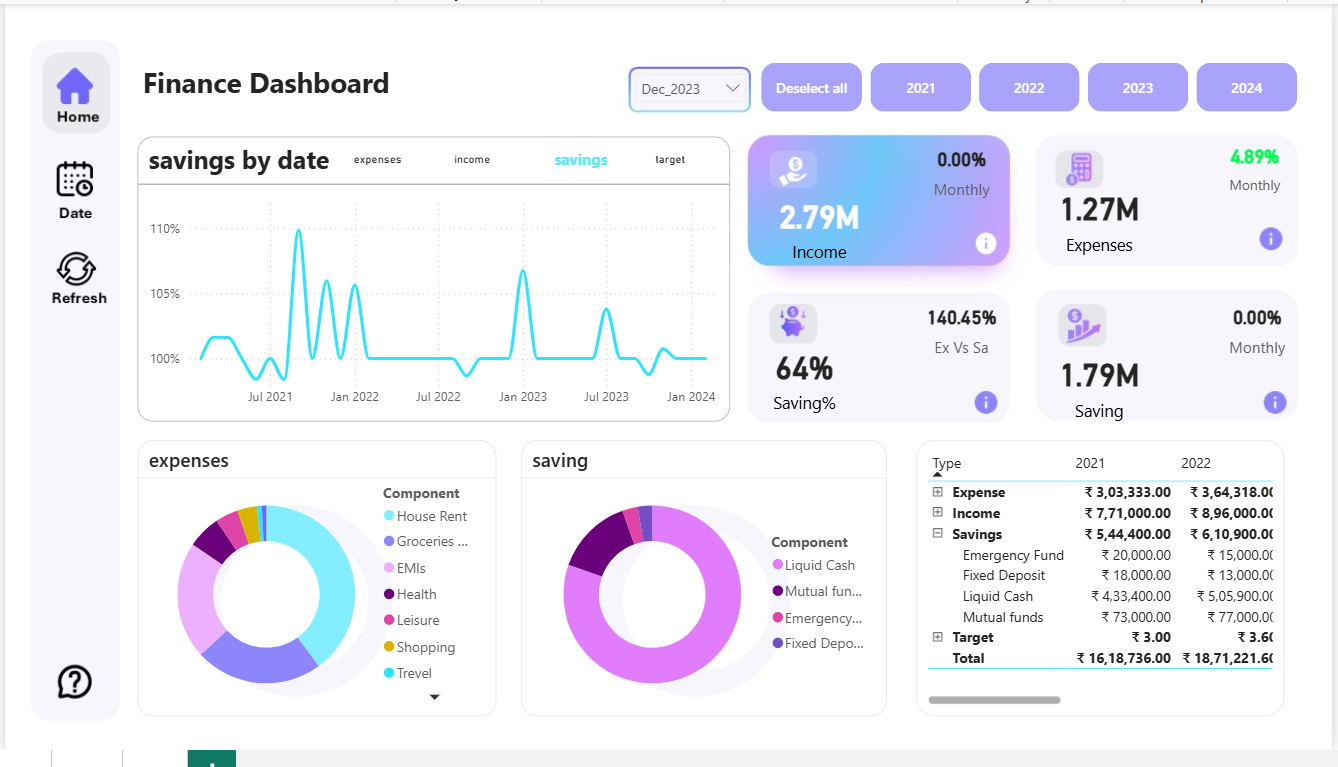

What the dashboard file says about the page in this screenshot:
{"tool":"powerbi","page":{"name":"Page 1","canvas":[1280,720],"ordinal":0},"visuals":[{"type":"card","fields":{"Values":["dataset.income"]},"box":[720.1,167.2,131.8,92.8],"z":0},{"type":"card","fields":{"Values":["dataset.saving"]},"box":[997.1,318.5,119.6,97.6],"z":1000},{"type":"card","fields":{"Values":["dataset.expenses"]},"box":[997.1,155,119.6,105],"z":2000},{"type":"card","fields":{"Values":["dataset.saving%"]},"box":[711.5,312.4,119.6,95.2],"z":3000},{"type":"advancedSlicerVisual","fields":{"Values":["dataset.year"]},"box":[725.1,51.9,527.2,57.9],"z":4000},{"type":"donutChart","title":"saving ","fields":{"Category":["dataset.Component"],"Y":["dataset.saving"]},"box":[498.8,421.2,352.5,266.2],"z":5000},{"type":"donutChart","title":"expenses ","fields":{"Category":["dataset.Component"],"Y":["dataset.expenses"]},"box":[127.5,421.2,346.2,266.2],"z":6000},{"type":"pivotTable","fields":{"Values":["dataset.total_value"],"Rows":["dataset.Type","dataset.Component"],"Columns":["dataset.year"]},"box":[880,421.2,355,266.2],"z":7000},{"type":"lineChart","fields":{"Category":["dataset.date.Variation.Date Hierarchy.Year","dataset.date.Variation.Date Hierarchy.Quarter","dataset.date.Variation.Date Hierarchy.Month","dataset.date.Variation.Date Hierarchy.Day"],"Y":["dataset.line_chart_measures"]},"box":[127.9,127.9,571.9,275.1],"z":8000},{"type":"advancedSlicerVisual","fields":{"Values":["line_selection_Table.type"]},"box":[318.5,119.4,393.3,60.3],"z":9000},{"type":"textbox","box":[127.9,51.9,271.4,57.9],"z":10000},{"type":"slicer","fields":{"Values":["Selected_date.month & year"]},"box":[598.4,56.7,126.7,53.1],"z":10002},{"type":"card","fields":{"Values":["dataset.Expenses_monthly_growth"]},"box":[1160.6,119.4,91.7,74.8],"z":10003},{"type":"card","title":"monthly","fields":{"Values":["dataset.Income_monthly_growth"]},"box":[871.4,128.1,105,65.9],"z":10004},{"type":"card","fields":{"Values":["dataset.Saving_monthly_gr"]},"box":[1147.3,275.1,123.1,76],"z":10005},{"type":"card","fields":{"Values":["dataset.Ex_Vs_Saving"]},"box":[871.1,283.5,105,59.1],"z":10006}]}

Visuals, with their boxes on the page's 1280x720 design canvas (x1, y1, x2, y2). These are canvas units, not pixel positions in the 1338x767 screenshot, which may show the page scaled, cropped or inside an application window:
card - dataset.income: locate(720, 167, 852, 260)
card - dataset.saving: locate(997, 318, 1117, 416)
card - dataset.expenses: locate(997, 155, 1117, 260)
card - dataset.saving%: locate(712, 312, 831, 408)
advancedSlicerVisual - dataset.year: locate(725, 52, 1252, 110)
"saving " donutChart: locate(499, 421, 851, 687)
"expenses " donutChart: locate(128, 421, 474, 687)
pivotTable - dataset.total_value x dataset.Type: locate(880, 421, 1235, 687)
lineChart - dataset.date.Variation.Date Hierarchy.Year x dataset.date.Variation.Date Hierarchy.Quarter: locate(128, 128, 700, 403)
advancedSlicerVisual - line_selection_Table.type: locate(318, 119, 712, 180)
textbox: locate(128, 52, 399, 110)
slicer - Selected_date.month & year: locate(598, 57, 725, 110)
card - dataset.Expenses_monthly_growth: locate(1161, 119, 1252, 194)
"monthly" card: locate(871, 128, 976, 194)
card - dataset.Saving_monthly_gr: locate(1147, 275, 1270, 351)
card - dataset.Ex_Vs_Saving: locate(871, 284, 976, 343)
